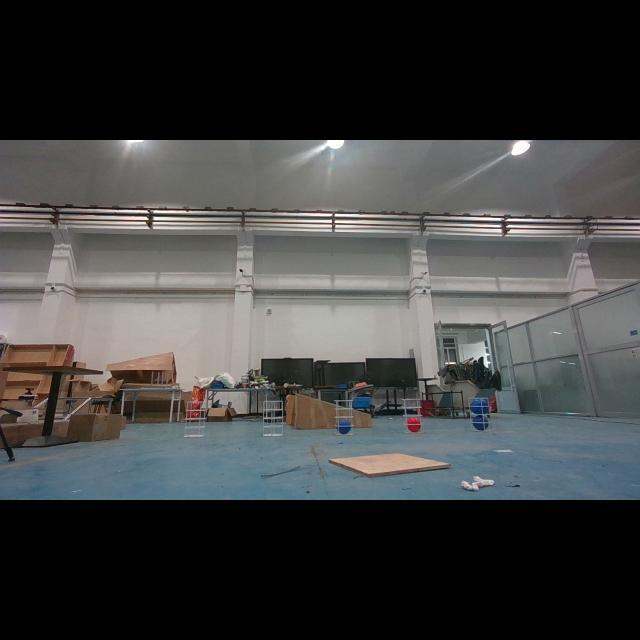B: (468, 400, 490, 416), (470, 416, 490, 430), (336, 419, 352, 433)
R: (405, 418, 421, 432)
S: (400, 395, 426, 435), (183, 399, 209, 438), (260, 399, 286, 438), (467, 395, 493, 433), (332, 398, 356, 438)
